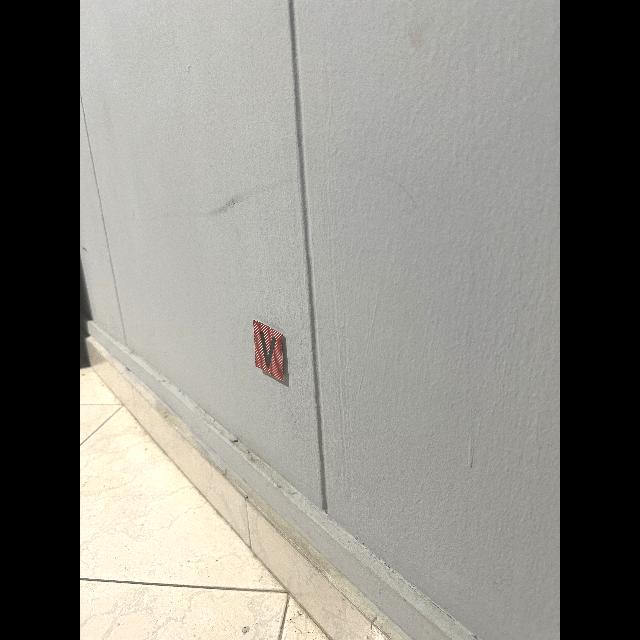V: (260, 331, 276, 368)
